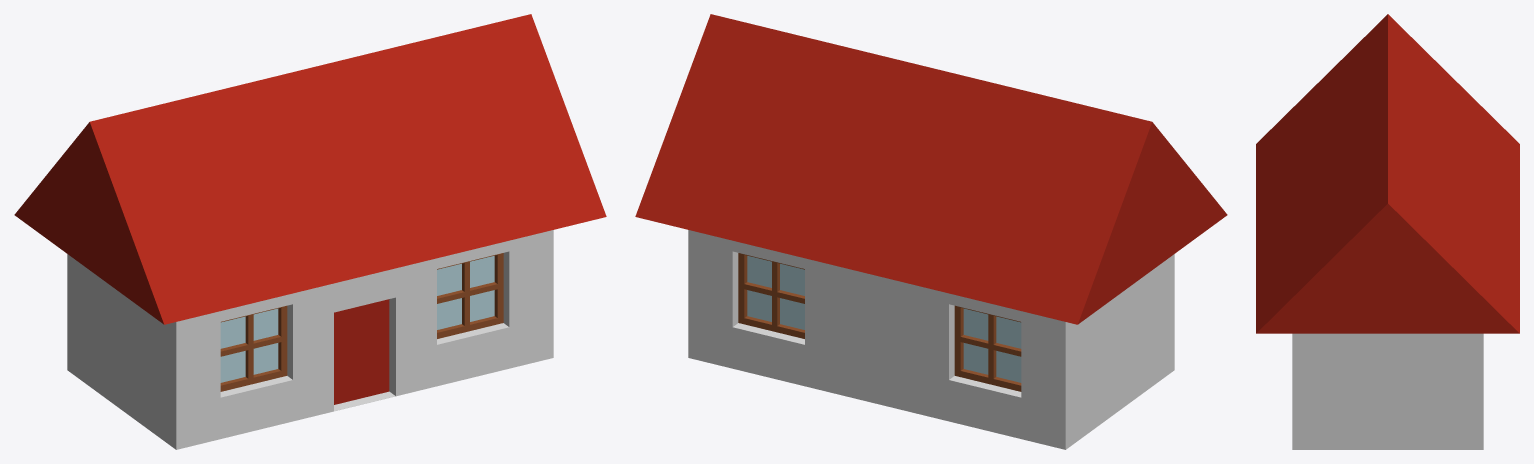
Rendered from house.glb.
3 renders of one model, left to right at view 1: azimuth 30°, elevation 25°; view 2: azimuth 150°, elevation 25°; view 3: azimuth 270°, elevation 25°, orthographic. The views are drawn at different scales.
Parts seen in each view (by area): view 1: base, window; view 2: base, window; view 3: base.
Part boxes in pixels (x1,y1,x2,y2): base: (14,14,606,449); window: (220,253,503,391); base: (635,14,1227,449); window: (738,253,1021,391); base: (1256,14,1519,449).
Bounding box in the file's own units: 9.38 × 6 × 5.51.
